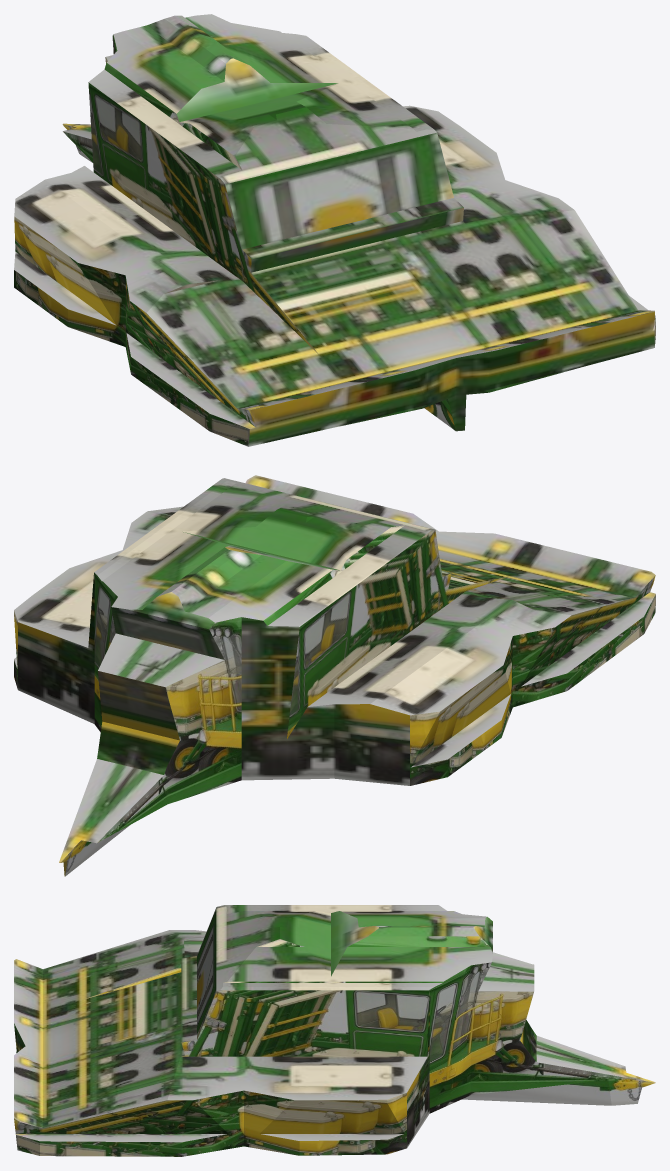
The model's file is planter_drill.glb.
3 views of the same model, one above another, from view 1: azimuth 30°, elevation 25°; view 2: azimuth 150°, elevation 25°; view 3: azimuth 270°, elevation 25° (orthographic). The views are drawn at different scales.
Parts seen in each view (by area): view 1: planter_drill; view 2: planter_drill; view 3: planter_drill.
Boxes of the visible parts, left/top/right/bottom form: planter_drill: left=14, top=14, right=655, bottom=446; planter_drill: left=14, top=475, right=655, bottom=876; planter_drill: left=14, top=905, right=655, bottom=1156.
Size of the model in its own units: 3.78 by 1.78 by 5.89.
2 materials, 1 textured.
